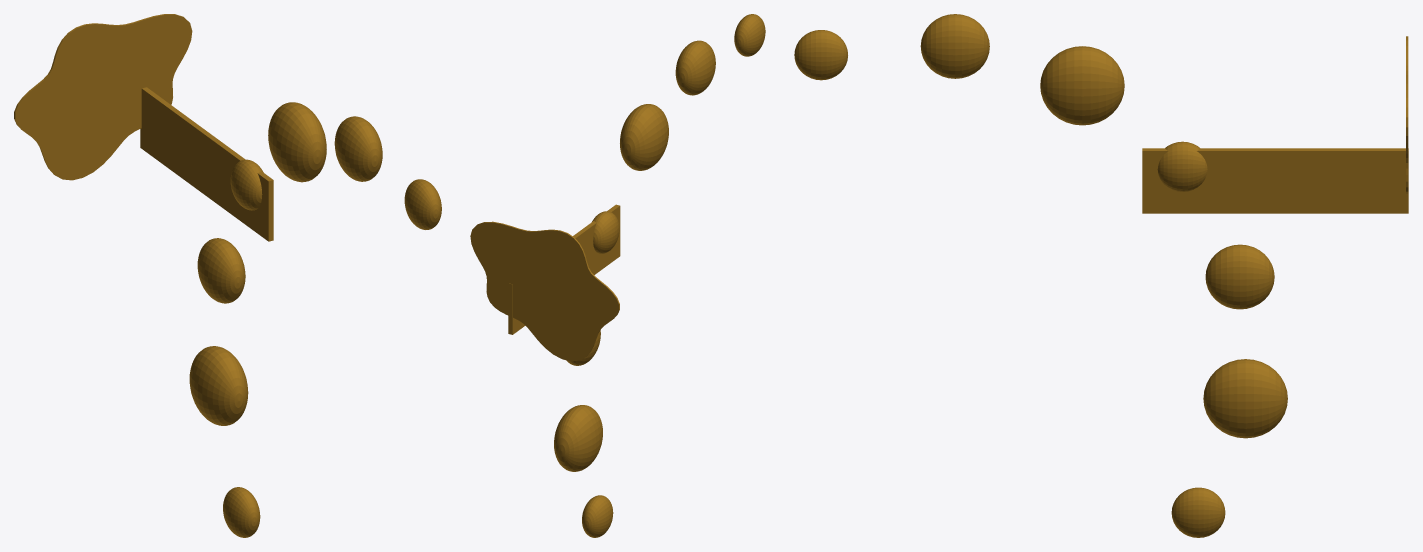
The model's file is fault_grease_leak.glb.
3 renders of one model, left to right at view 1: azimuth 30°, elevation 25°; view 2: azimuth 150°, elevation 25°; view 3: azimuth 270°, elevation 25°, orthographic. The views are drawn at different scales.
Visible parts, largest first — view 1: fault_grease_leak; view 2: fault_grease_leak; view 3: fault_grease_leak.
Part boxes in pixels (x1,y1,x2,y2): fault_grease_leak: (14,14,441,537); fault_grease_leak: (470,14,765,537); fault_grease_leak: (794,14,1408,537).
Bounding box in the file's own units: 0.2764 × 0.7495 × 0.7992.
